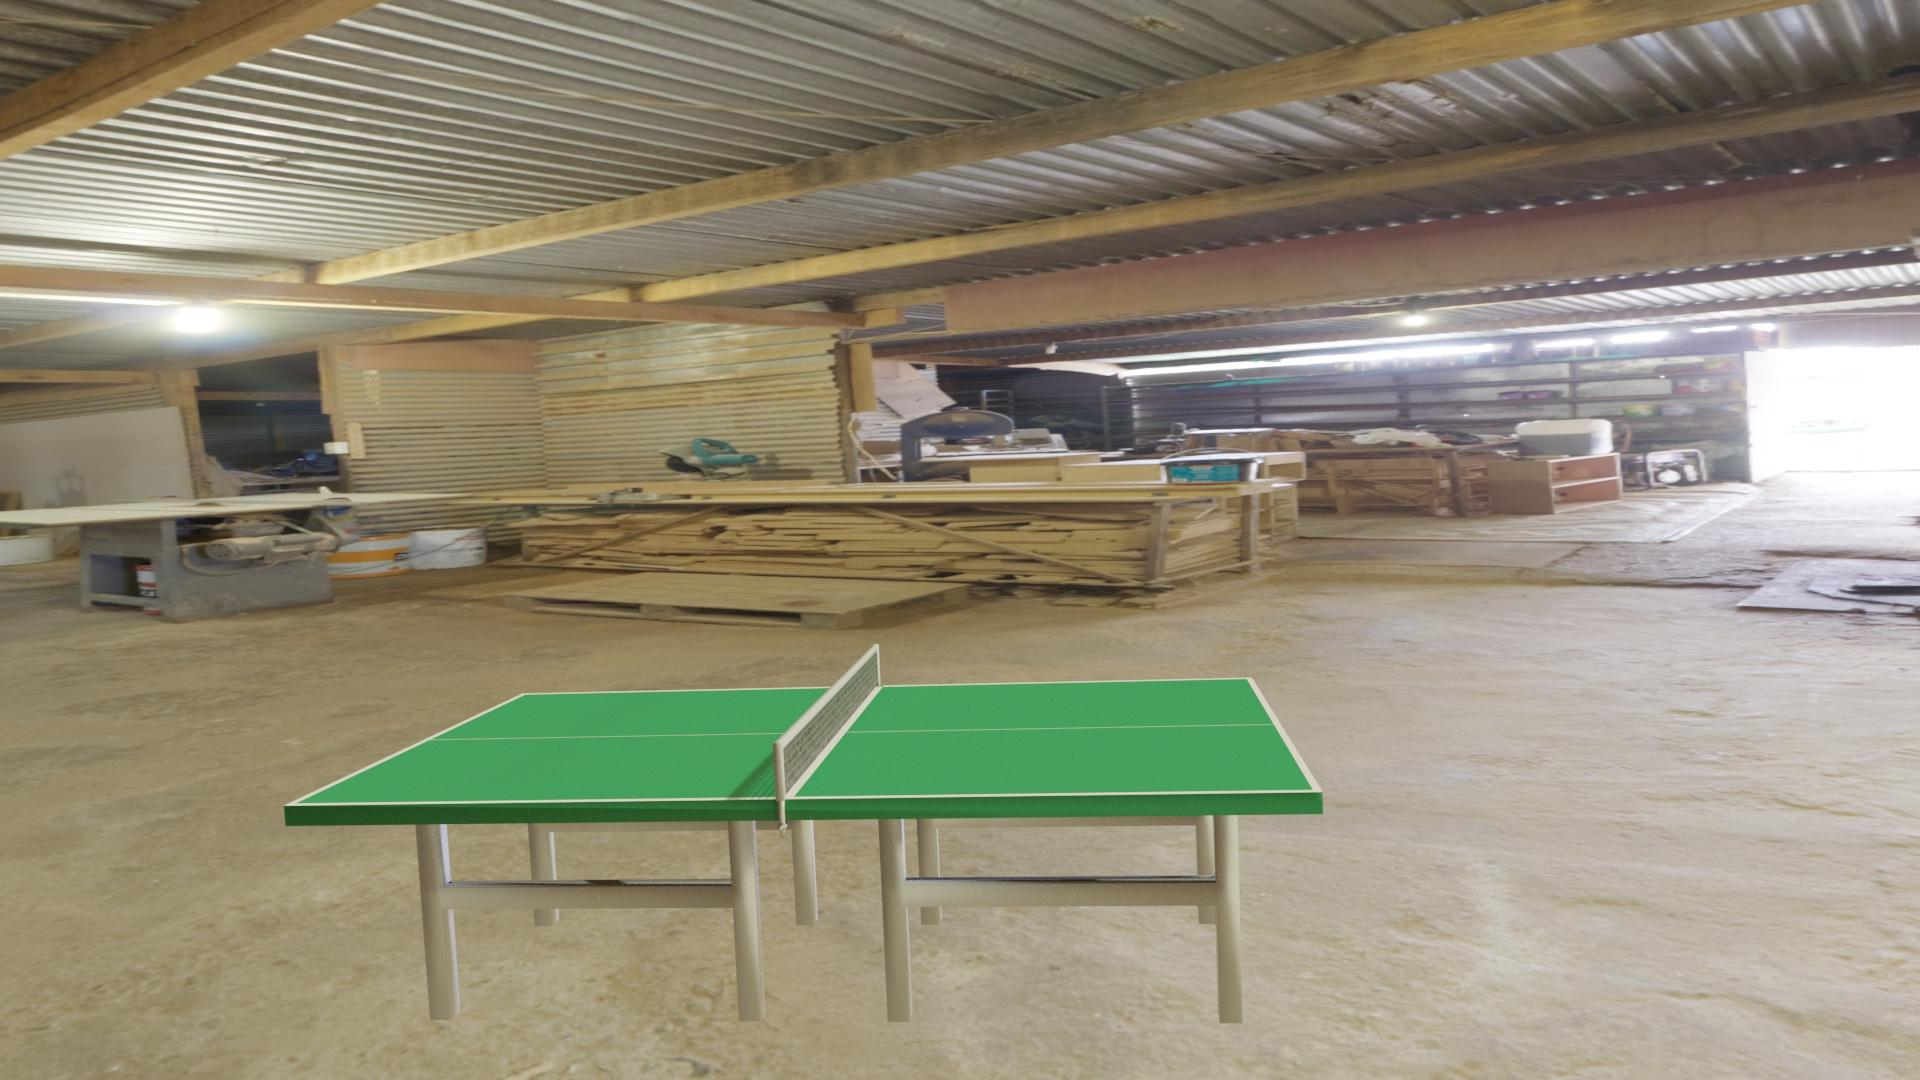table: (295, 679, 1313, 803)
